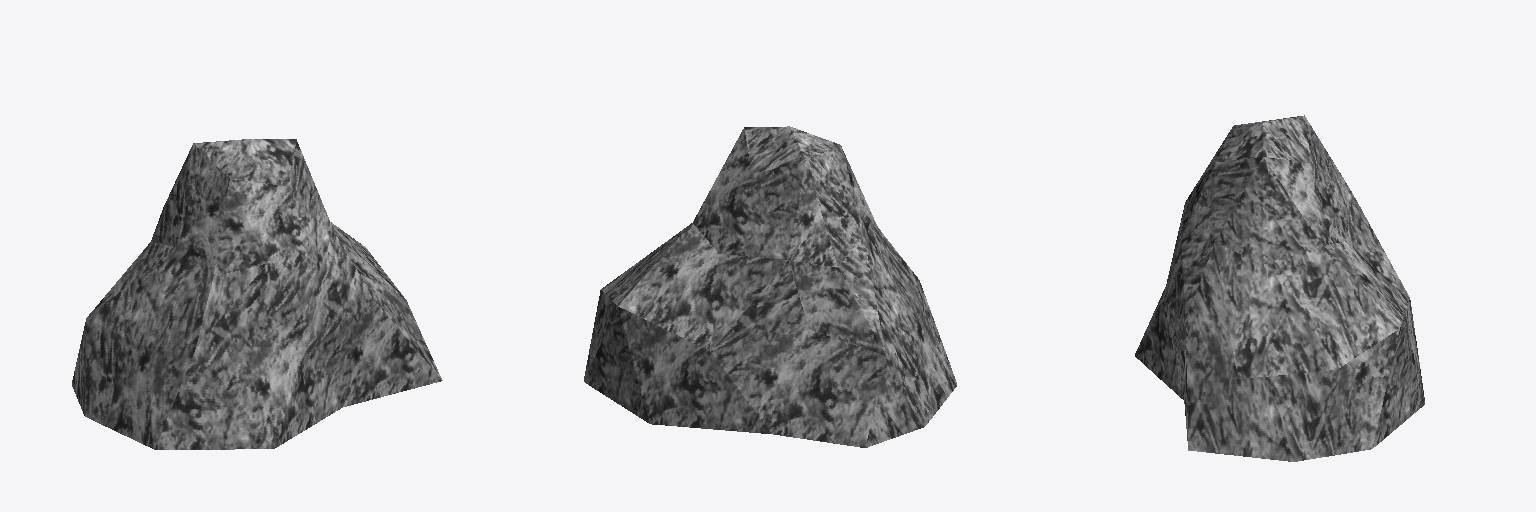
3 renders of one model, left to right at view 1: azimuth 30°, elevation 25°; view 2: azimuth 150°, elevation 25°; view 3: azimuth 270°, elevation 25°, orthographic.
Visible parts, largest first — view 1: bstone_s01; view 2: bstone_s01; view 3: bstone_s01.
Part boxes in pixels (x1,y1,x2,y2): bstone_s01: (72,139,442,449); bstone_s01: (584,126,956,447); bstone_s01: (1135,115,1424,461).
Bounding box in the file's own units: 15.99 × 11.79 × 12.28.
Materials: 1 (1 with a texture image).